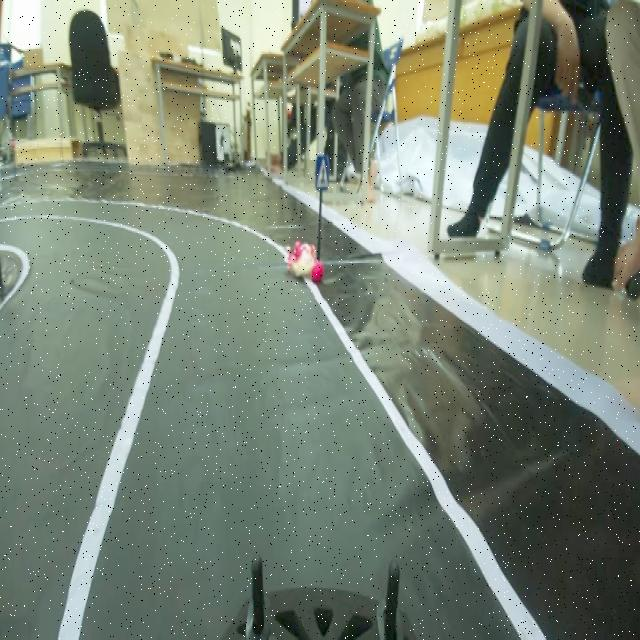crosswalk: (312, 144, 334, 198)
